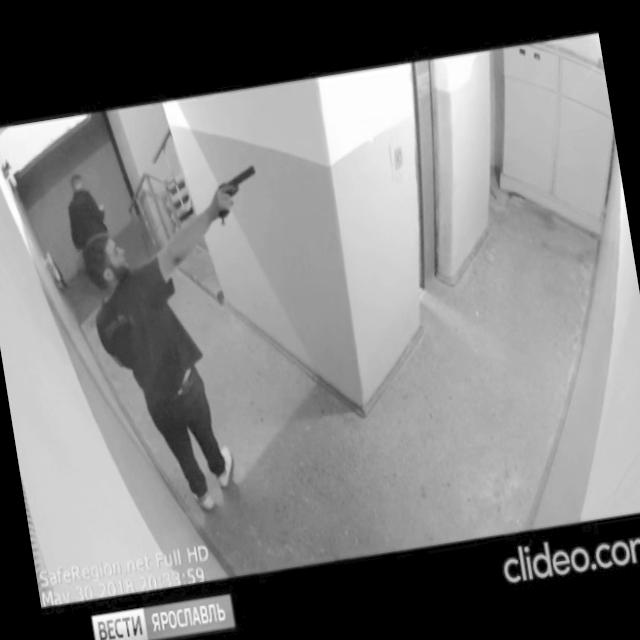gun: (208, 162, 264, 221)
person: (62, 168, 126, 304)
person with a gun: (70, 160, 312, 527)
